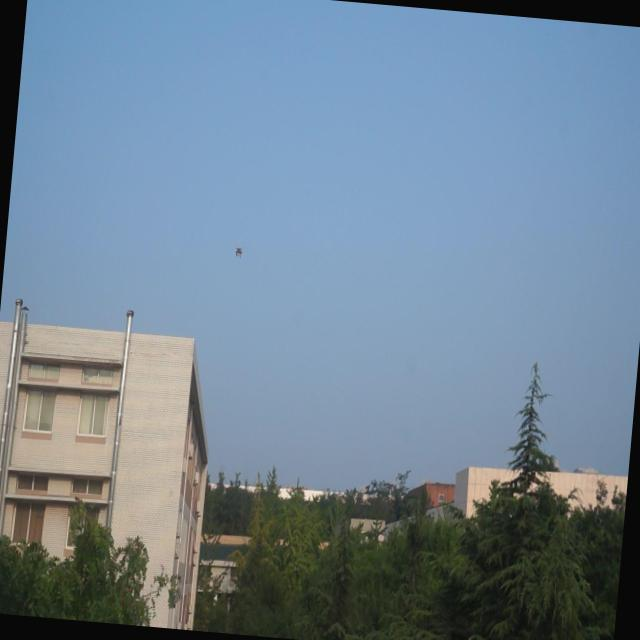drone: (232, 240, 244, 261)
